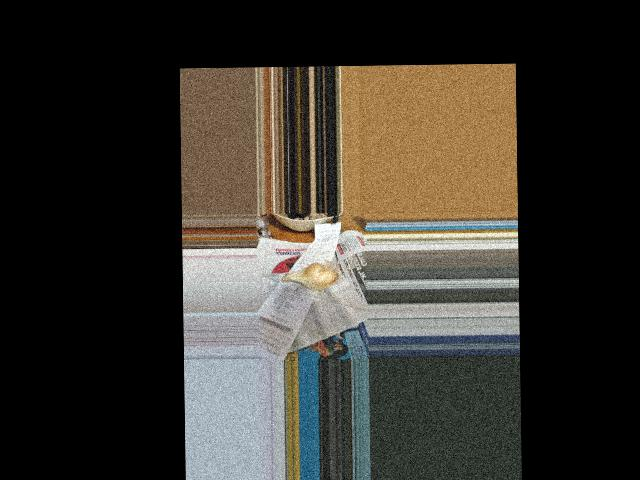onion: (289, 263, 337, 289)
